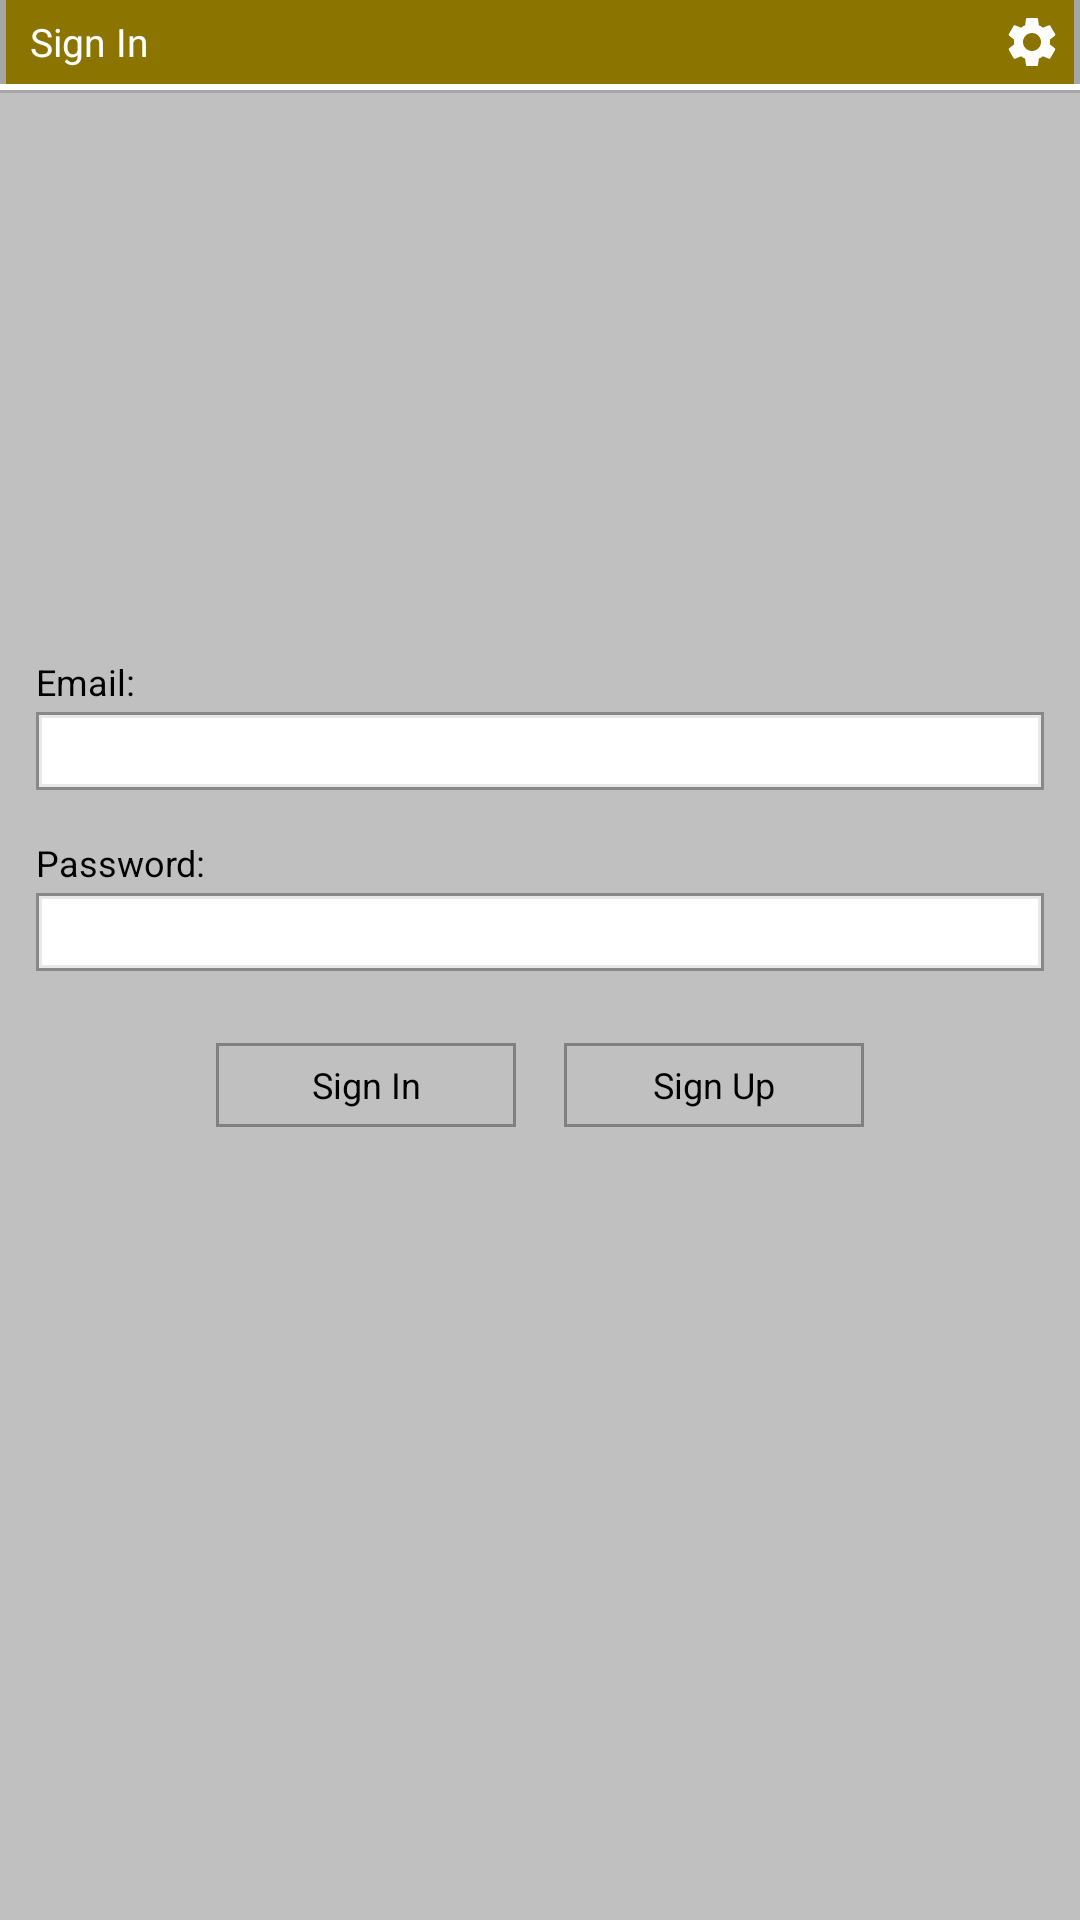

Point at icon controls on the screen. Image size 1080px x 1920px, points as point (x, y).
settings: point (1032, 42)
